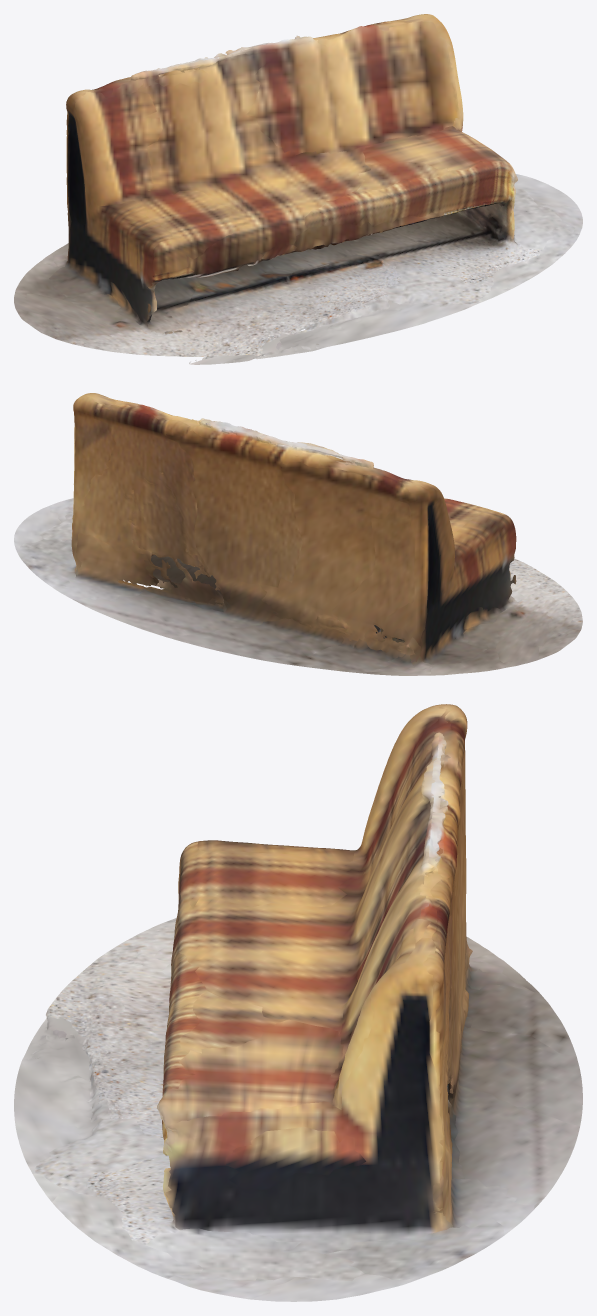
The model's file is yellow-couch.glb.
3 renders of one model, top to bottom at view 1: azimuth 30°, elevation 25°; view 2: azimuth 150°, elevation 25°; view 3: azimuth 270°, elevation 25°, orthographic. The views are drawn at different scales.
Parts seen in each view (by area): view 1: Object_2; view 2: Object_2; view 3: Object_2.
Boxes of the visible parts, x1,y1,x2,y2 form: Object_2: (14,14,582,364); Object_2: (14,393,582,675); Object_2: (14,704,582,1301).
Size of the model in its own units: 2.92 by 0.9996 by 1.74.
1 material, 1 textured.
